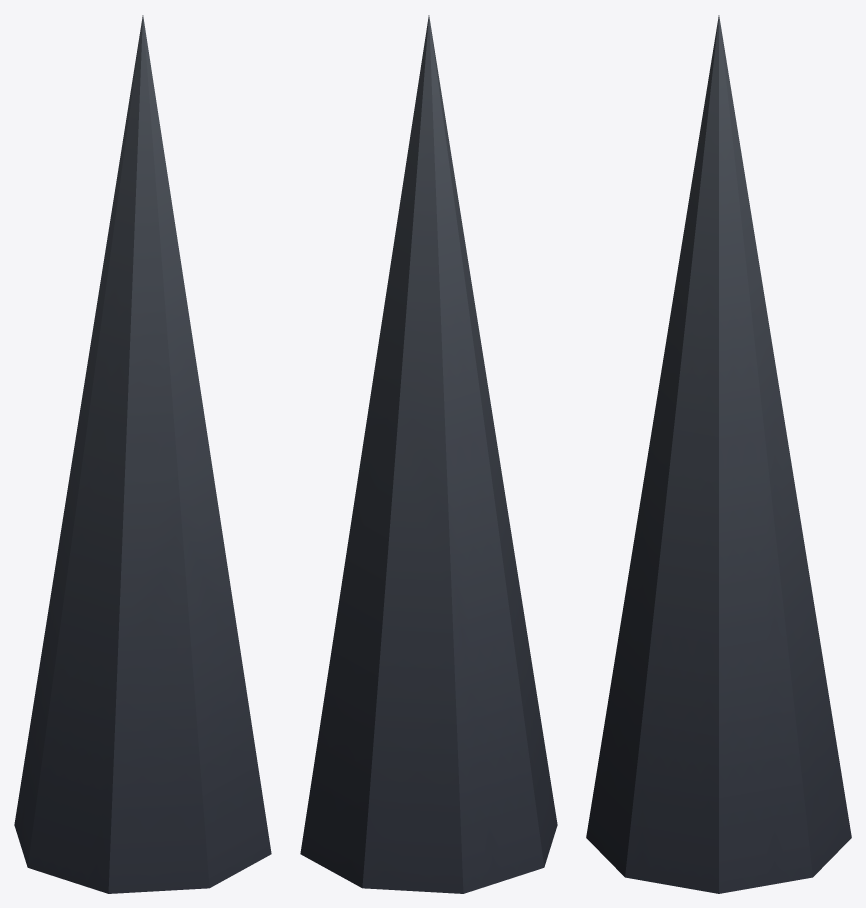
The model's file is SM_ModularHole1_Spike.fbx.
3 views of the same model, side by side, from view 1: azimuth 30°, elevation 25°; view 2: azimuth 150°, elevation 25°; view 3: azimuth 270°, elevation 25° (orthographic).
Parts seen in each view (by area): view 1: SM_ModularHole1_Spike; view 2: SM_ModularHole1_Spike; view 3: SM_ModularHole1_Spike.
Boxes of the visible parts, box(x1,y1,x2,y2) form: SM_ModularHole1_Spike: box(14, 15, 271, 893); SM_ModularHole1_Spike: box(300, 15, 557, 893); SM_ModularHole1_Spike: box(586, 15, 851, 893).
Bounding box in the file's own units: 58.48 × 200 × 58.48.
